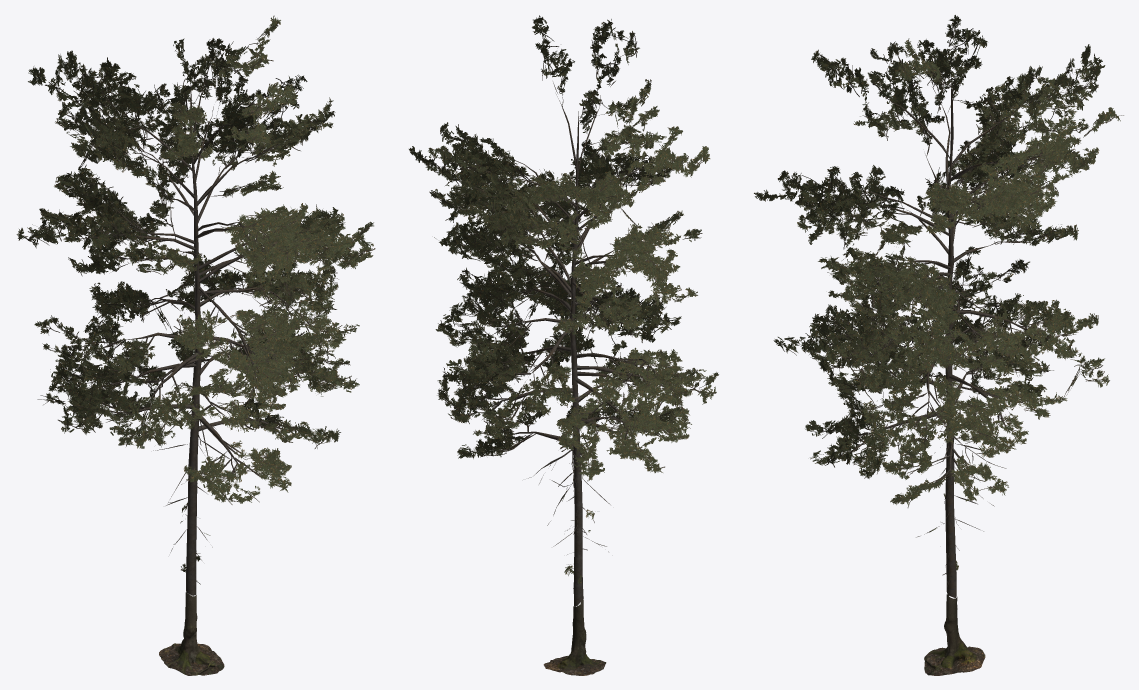
The picture shows the model from 3 angles, left to right: view 1: azimuth 30°, elevation 25°; view 2: azimuth 150°, elevation 25°; view 3: azimuth 270°, elevation 25°; orthographic projection. The views are drawn at different scales.
Parts seen in each view (by area): view 1: pine_tree_01__b_lod0; view 2: pine_tree_01__b_lod0; view 3: pine_tree_01__b_lod0.
Part boxes in pixels (bbox=[...]): pine_tree_01__b_lod0: bbox=[16, 15, 375, 675]; pine_tree_01__b_lod0: bbox=[409, 15, 718, 675]; pine_tree_01__b_lod0: bbox=[754, 15, 1123, 675].
Size of the model in its own units: 7.3 by 14.91 by 7.64.
3 materials, 3 textured.
